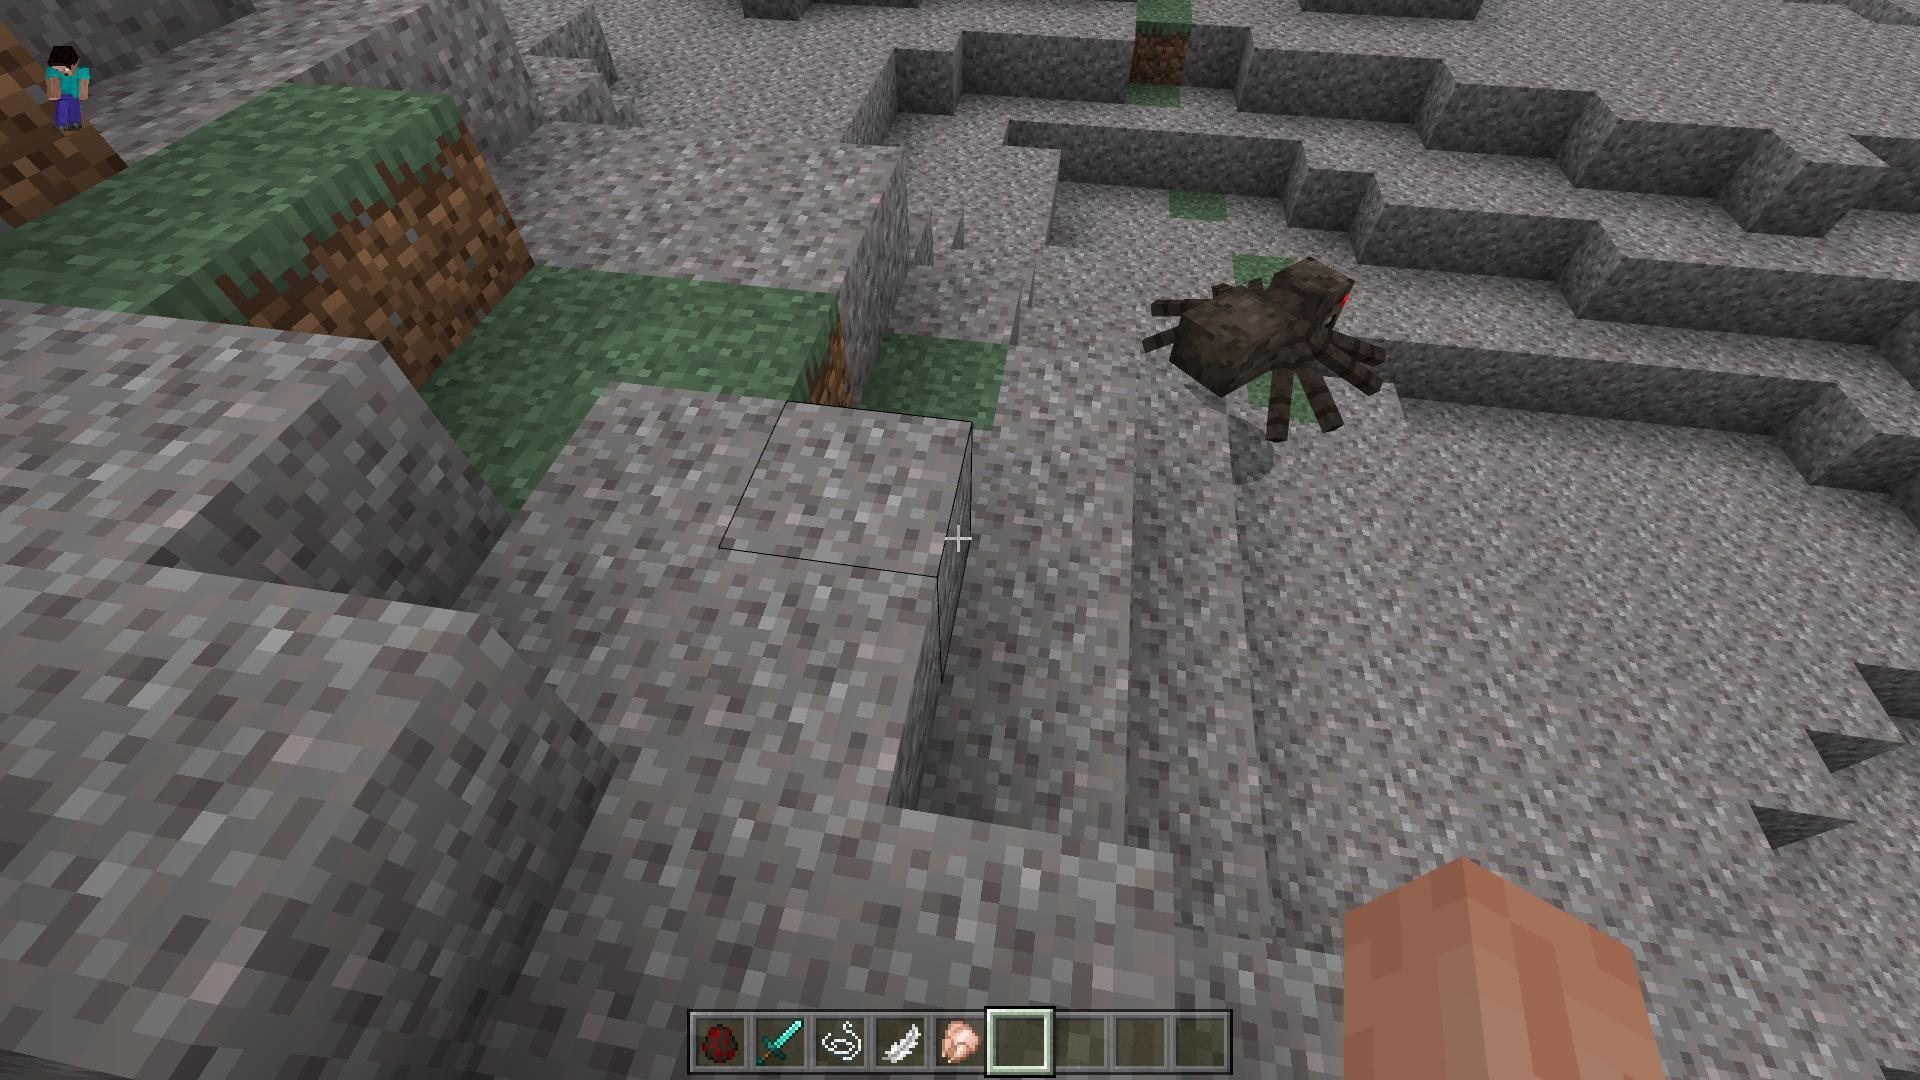spider: (1145, 255, 1389, 442)
